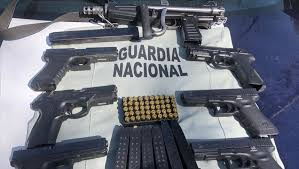Arma Real: (80, 1, 232, 45), (178, 87, 283, 137), (28, 85, 118, 142), (182, 45, 273, 90), (33, 47, 119, 90), (13, 135, 109, 169), (186, 137, 286, 169)
